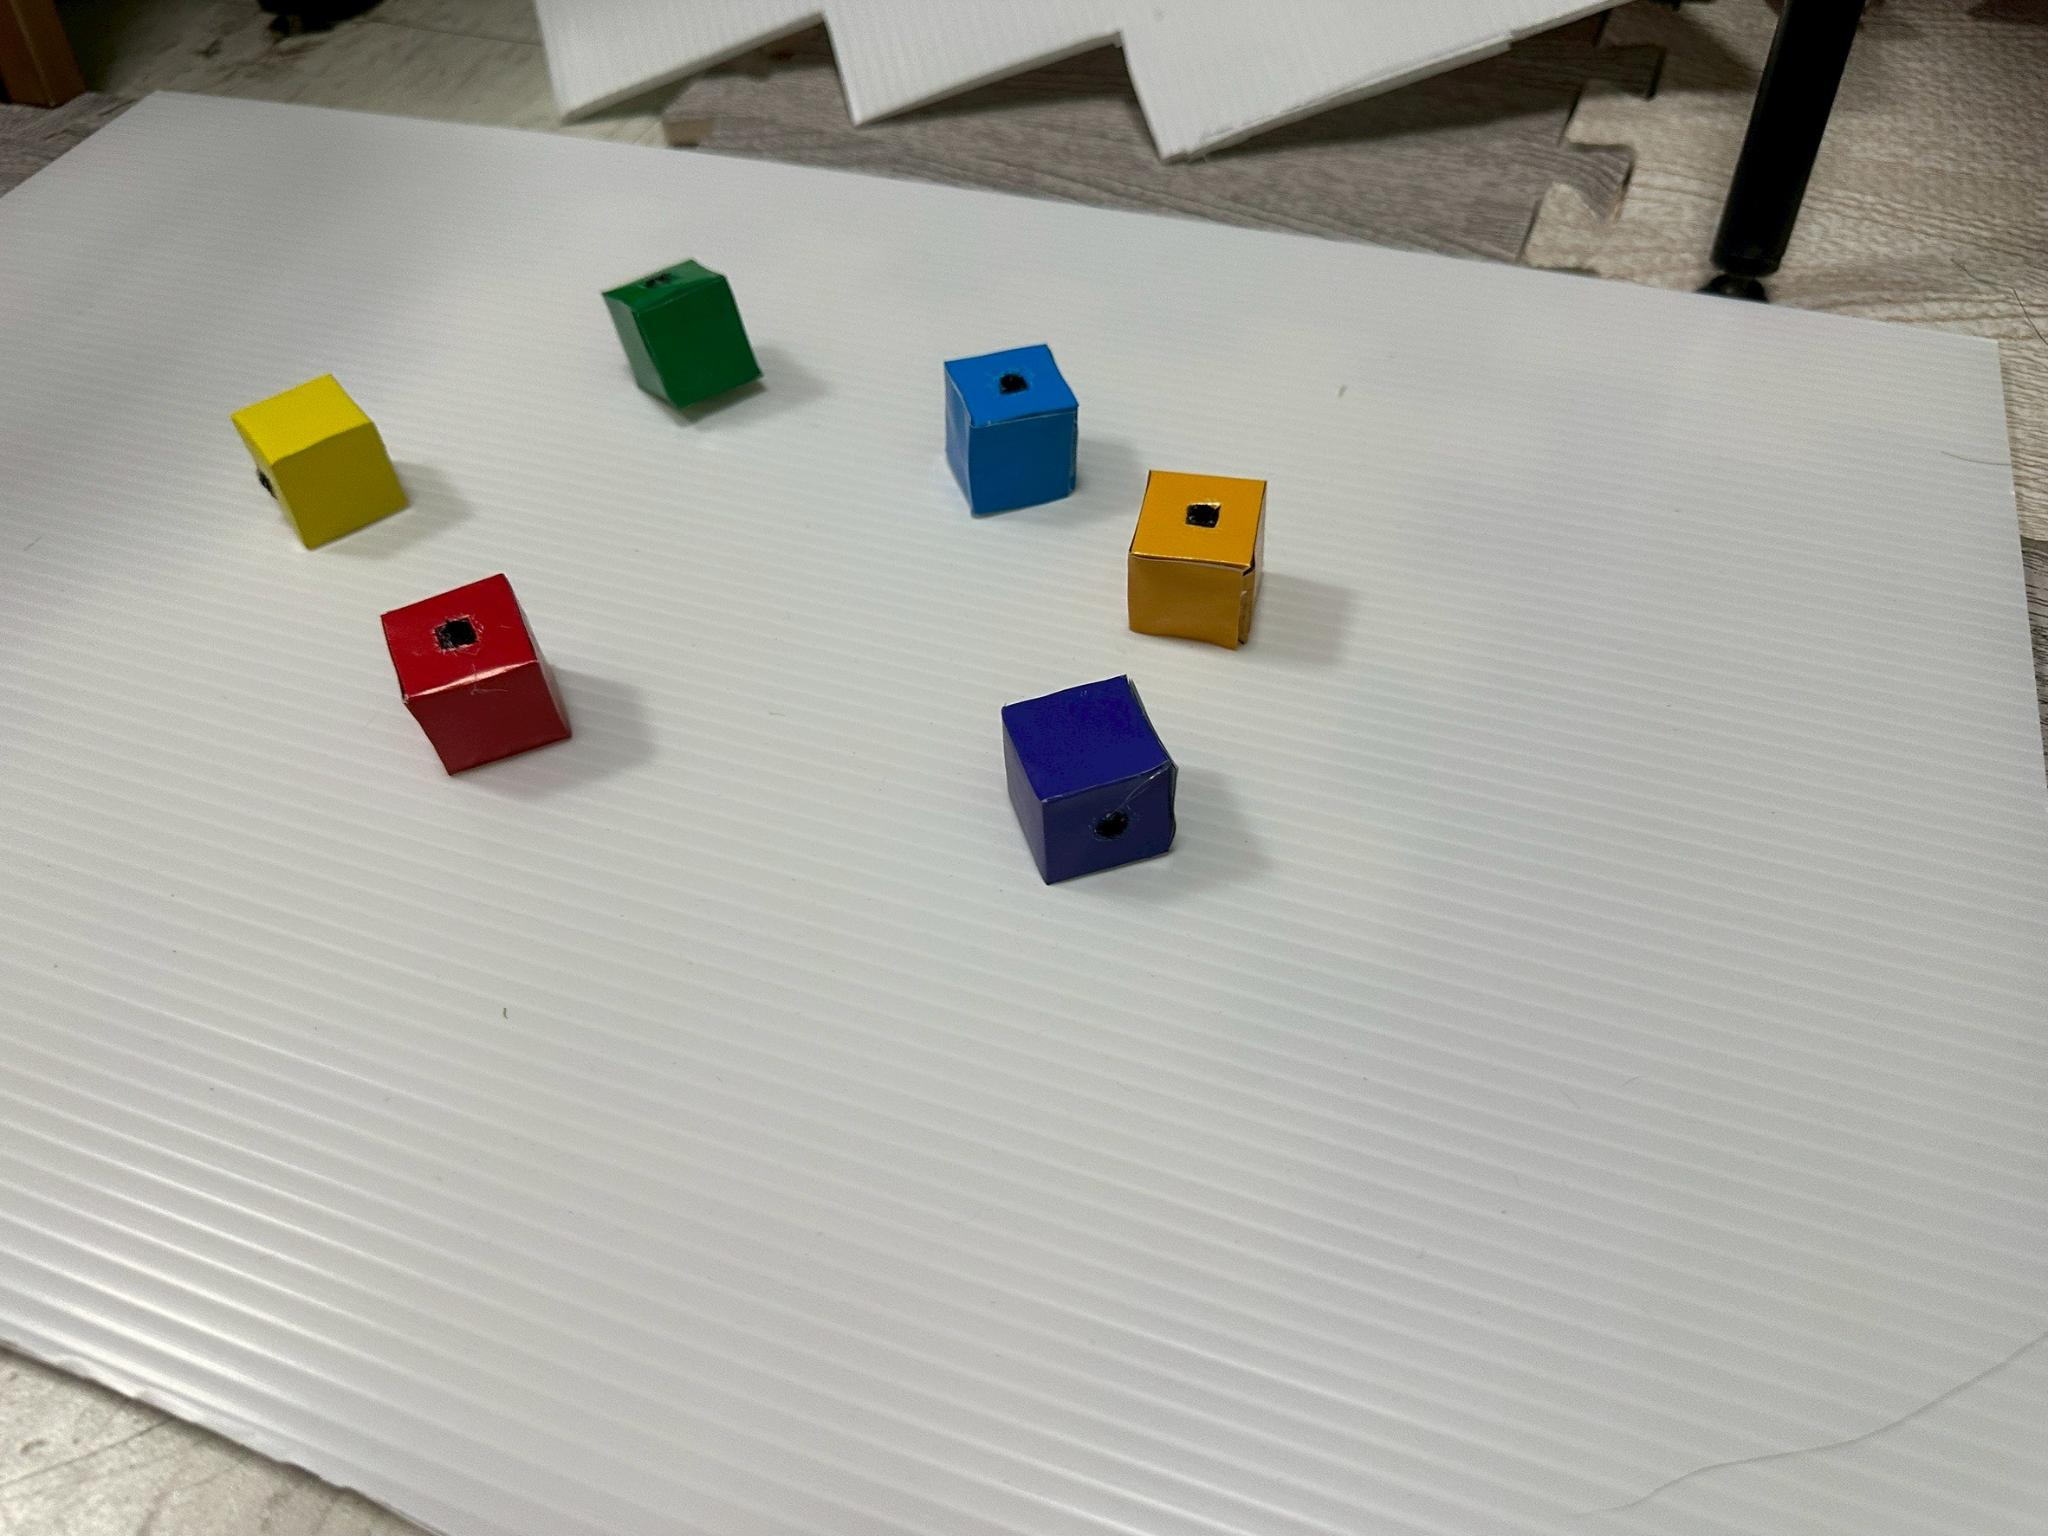base: (382, 574, 569, 774), (1003, 678, 1174, 884), (232, 374, 405, 549), (1129, 471, 1264, 649), (603, 260, 761, 408), (947, 345, 1077, 515)
